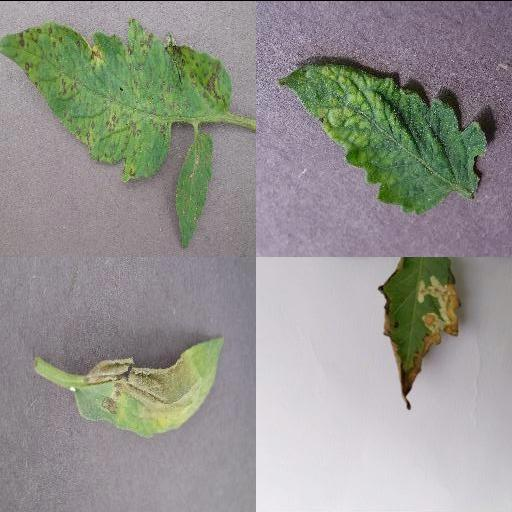Late Blight: (70, 332, 228, 440)
Leaf Miner: (377, 256, 461, 396)
Mosaic Virus: (277, 61, 487, 215)
Septoria: (1, 18, 233, 181)
